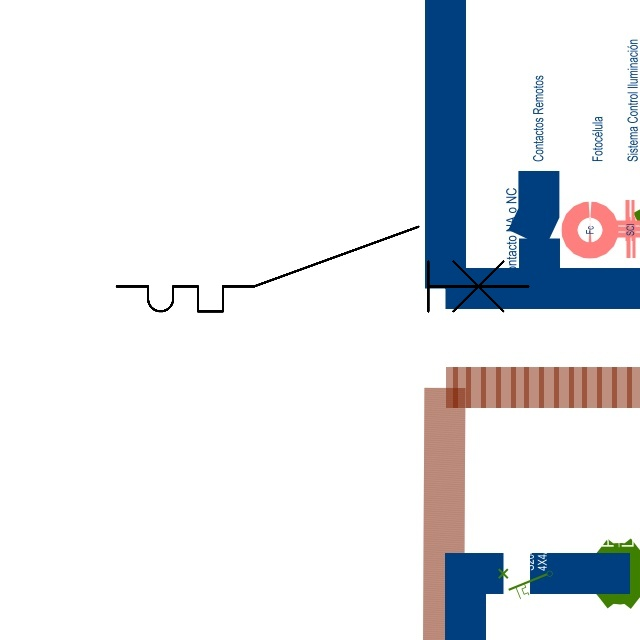interruptor_termomagnetico: (106, 216, 538, 322)
